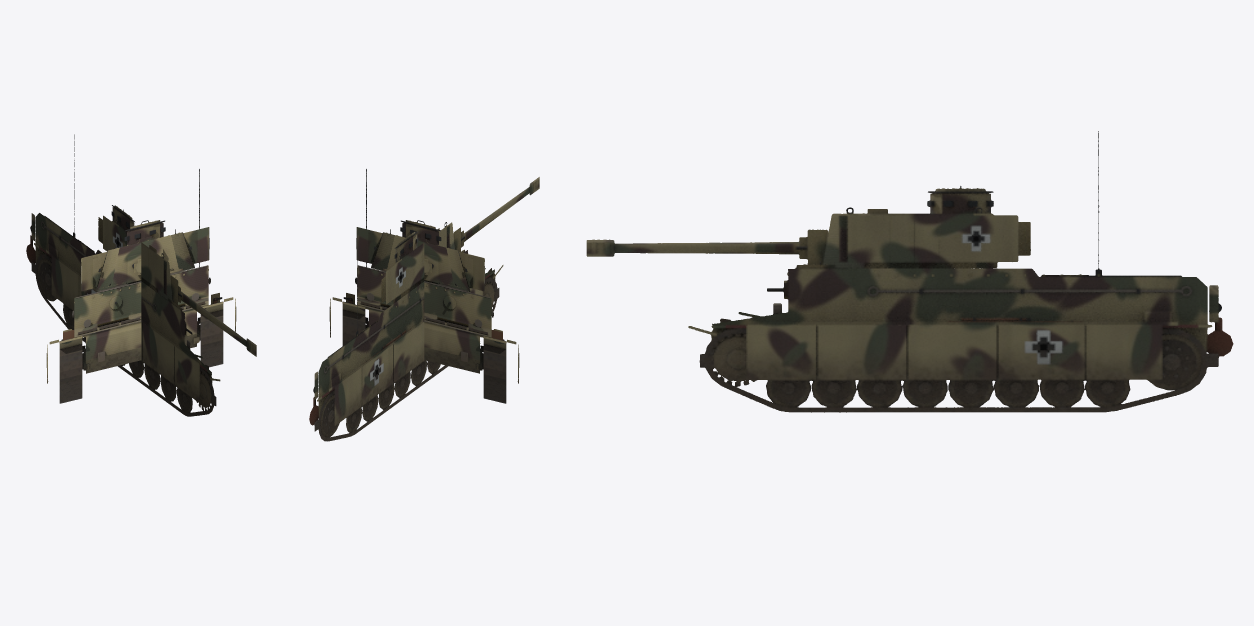
File: panzer_iv_h_v2b_v2_pbr_bb.glb
3 views of the same model, side by side, from view 1: azimuth 30°, elevation 25°; view 2: azimuth 150°, elevation 25°; view 3: azimuth 270°, elevation 25° (orthographic). The views are drawn at different scales.
Visible parts, largest first — view 1: panzer_iv_h_v2b_v2_pbr_bb; view 2: panzer_iv_h_v2b_v2_pbr_bb; view 3: panzer_iv_h_v2b_v2_pbr_bb.
Part boxes in pixels (x1,y1,x2,y2): panzer_iv_h_v2b_v2_pbr_bb: (26,134,256,416); panzer_iv_h_v2b_v2_pbr_bb: (309,169,539,441); panzer_iv_h_v2b_v2_pbr_bb: (586,131,1233,412).
Size of the model in its own units: 4.47 by 7.16 by 7.16.
Materials: 1 (1 with a texture image).
